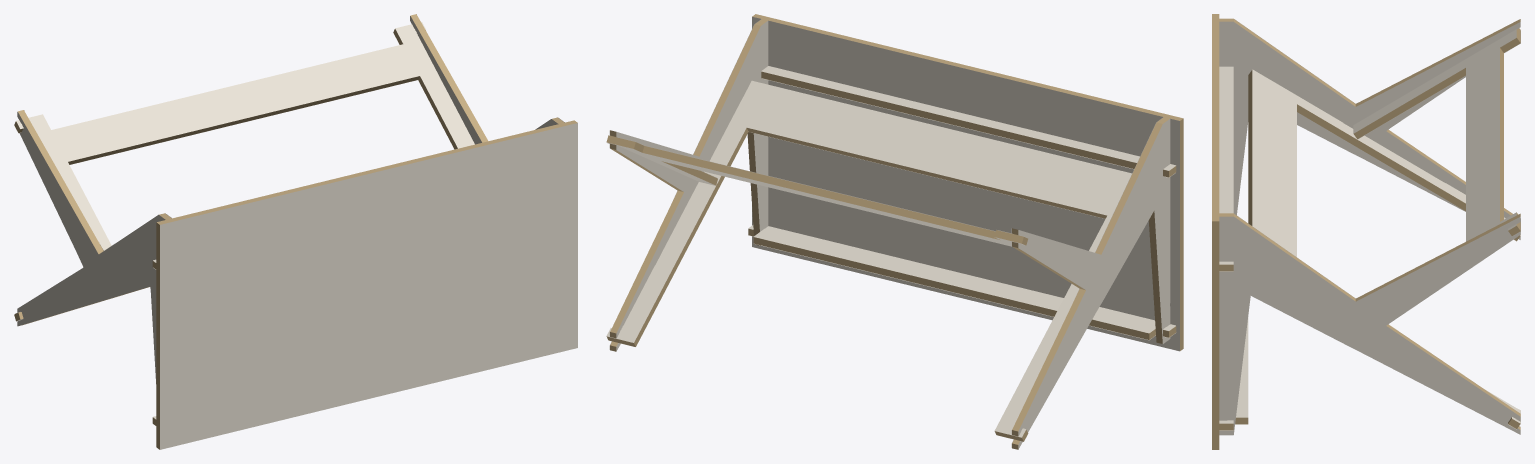
File: NODO_ESCRITORIO_ESCULTORICO_KIRI_AR_UNIVERSAL_V11.glb
3 renders of one model, left to right at view 1: azimuth 30°, elevation 25°; view 2: azimuth 150°, elevation 25°; view 3: azimuth 270°, elevation 25°, orthographic. The views are drawn at different scales.
Visible parts, largest first — view 1: G_Tapa_Superior_CARAS_COLOR_REAL, B_Escuadra_Trasera_PIEL_LISA_1, D_Lateral_Izq_PIEL_LISA_-1, G_Tapa_Superior_CANTO_MDF, B_Escuadra_Trasera_canto, D_Lateral_Izq_cuerpo, D_Lateral_Izq_canto, C_Lateral_Der_canto, C_Lateral_Der_PIEL_LISA_-1; view 2: G_Tapa_Superior_CARAS_COLOR_REAL, A_Escuadra_Delantera_PIEL_LISA_1, D_Lateral_Izq_PIEL_LISA_-1, F_Traba_Delantera_PIEL_LISA_1, A_Escuadra_Delantera_cuerpo, C_Lateral_Der_PIEL_LISA_-1, B_Escuadra_Trasera_canto, D_Lateral_Izq_canto, C_Lateral_Der_canto, E_Traba_Trasera_PIEL_LISA_1, E_Traba_Trasera_canto, F_Traba_Delantera_canto (+5 smaller); view 3: C_Lateral_Der_PIEL_LISA_1, D_Lateral_Izq_PIEL_LISA_1, A_Escuadra_Delantera_PIEL_LISA_1, B_Escuadra_Trasera_PIEL_LISA_1, G_Tapa_Superior_CANTO_MDF, C_Lateral_Der_cuerpo, A_Escuadra_Delantera_canto, E_Traba_Trasera_PIEL_LISA_1, D_Lateral_Izq_cuerpo, B_Escuadra_Trasera_canto, C_Lateral_Der_canto, A_Escuadra_Delantera_cuerpo (+3 smaller).
Part boxes in pixels (x1,y1,x2,y2): G_Tapa_Superior_CARAS_COLOR_REAL: (160, 123, 577, 449); B_Escuadra_Trasera_PIEL_LISA_1: (16, 22, 474, 250); D_Lateral_Izq_PIEL_LISA_-1: (17, 112, 164, 330); G_Tapa_Superior_CANTO_MDF: (156, 120, 577, 449); B_Escuadra_Trasera_canto: (14, 29, 457, 164); D_Lateral_Izq_cuerpo: (17, 112, 165, 383); D_Lateral_Izq_canto: (18, 110, 171, 325); C_Lateral_Der_canto: (410, 14, 564, 142); C_Lateral_Der_PIEL_LISA_-1: (410, 16, 557, 144); G_Tapa_Superior_CARAS_COLOR_REAL: (752, 16, 1179, 351); A_Escuadra_Delantera_PIEL_LISA_1: (606, 80, 1131, 437); D_Lateral_Izq_PIEL_LISA_-1: (1018, 119, 1170, 448); F_Traba_Delantera_PIEL_LISA_1: (749, 225, 1175, 332); A_Escuadra_Delantera_cuerpo: (607, 127, 1106, 437); C_Lateral_Der_PIEL_LISA_-1: (616, 21, 768, 350); B_Escuadra_Trasera_canto: (606, 135, 1027, 245); D_Lateral_Izq_canto: (1012, 117, 1169, 449); C_Lateral_Der_canto: (610, 19, 767, 351); E_Traba_Trasera_PIEL_LISA_1: (761, 66, 1175, 170); E_Traba_Trasera_canto: (761, 71, 1176, 177); F_Traba_Delantera_canto: (748, 228, 1176, 339); C_Lateral_Der_PIEL_LISA_1: (1219, 216, 1520, 435); D_Lateral_Izq_PIEL_LISA_1: (1219, 22, 1520, 239); A_Escuadra_Delantera_PIEL_LISA_1: (1252, 69, 1520, 423); B_Escuadra_Trasera_PIEL_LISA_1: (1353, 29, 1516, 241); G_Tapa_Superior_CANTO_MDF: (1212, 14, 1219, 449); C_Lateral_Der_cuerpo: (1219, 217, 1520, 434); A_Escuadra_Delantera_canto: (1248, 70, 1520, 428); E_Traba_Trasera_PIEL_LISA_1: (1219, 66, 1233, 264); D_Lateral_Izq_cuerpo: (1219, 21, 1520, 239); B_Escuadra_Trasera_canto: (1354, 28, 1520, 235); C_Lateral_Der_canto: (1219, 213, 1520, 429); A_Escuadra_Delantera_cuerpo: (1252, 70, 1520, 423).
Size of what is drawn, in the model's own units: 1.22 by 0.628 by 0.7686.
